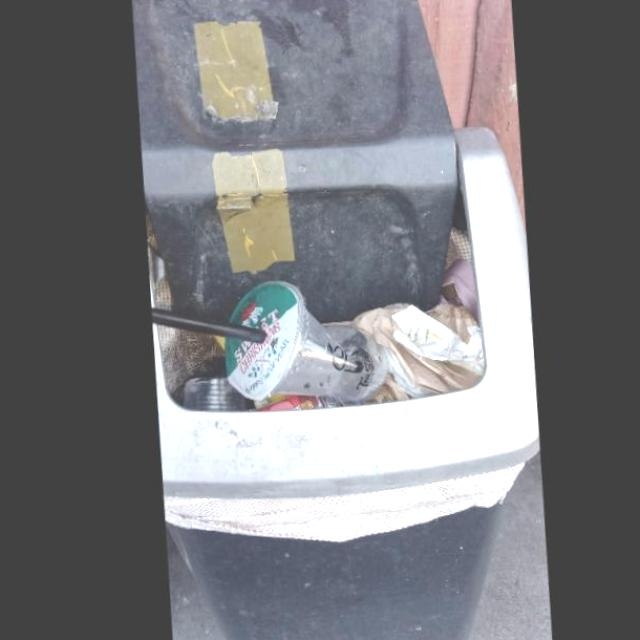hop_nhua: (217, 282, 379, 403)
ong_hut_nhua: (145, 309, 259, 345)
